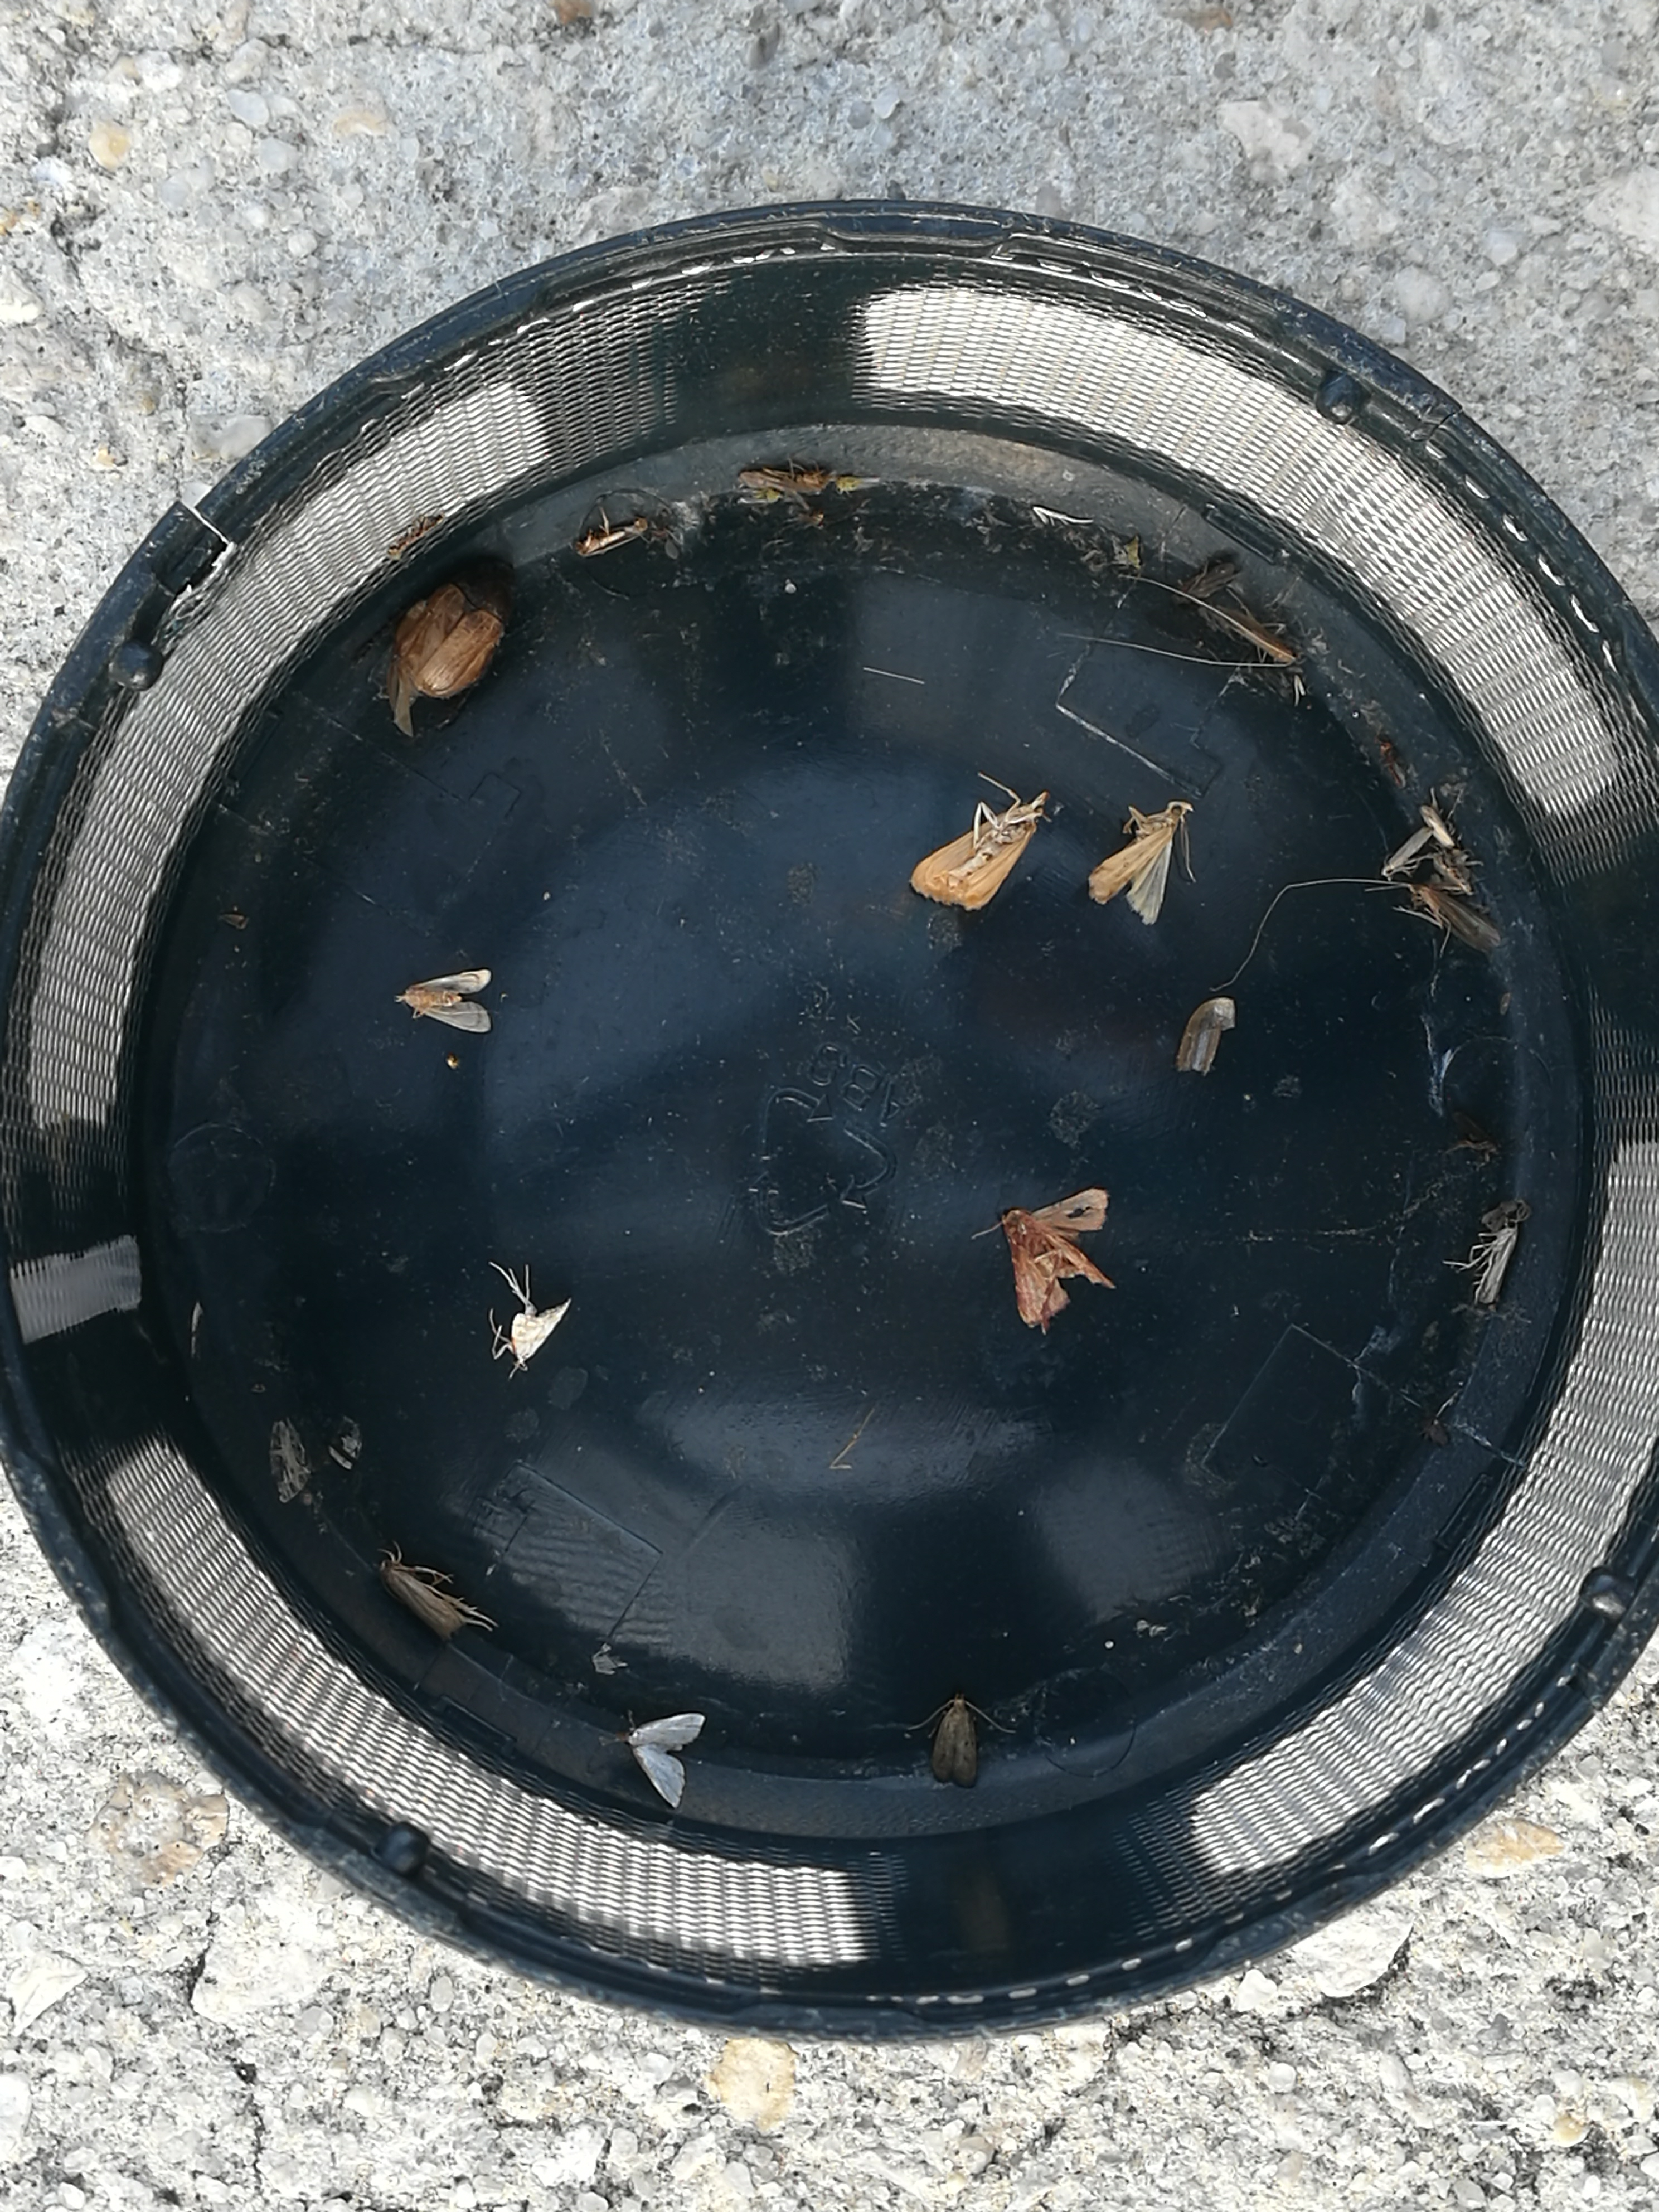beetle: (396, 559, 514, 695)
mosquito: (380, 1561, 464, 1641), (1412, 887, 1500, 953), (1213, 610, 1293, 665), (1476, 1219, 1518, 1303), (573, 517, 647, 556), (1173, 563, 1237, 604), (737, 470, 823, 495), (1384, 831, 1425, 878), (1424, 805, 1455, 848)
moth: (1004, 1184, 1115, 1324), (915, 794, 1044, 913), (1096, 803, 1192, 921), (629, 1712, 704, 1806), (403, 968, 491, 1029), (927, 1693, 978, 1789), (505, 1301, 568, 1369)
